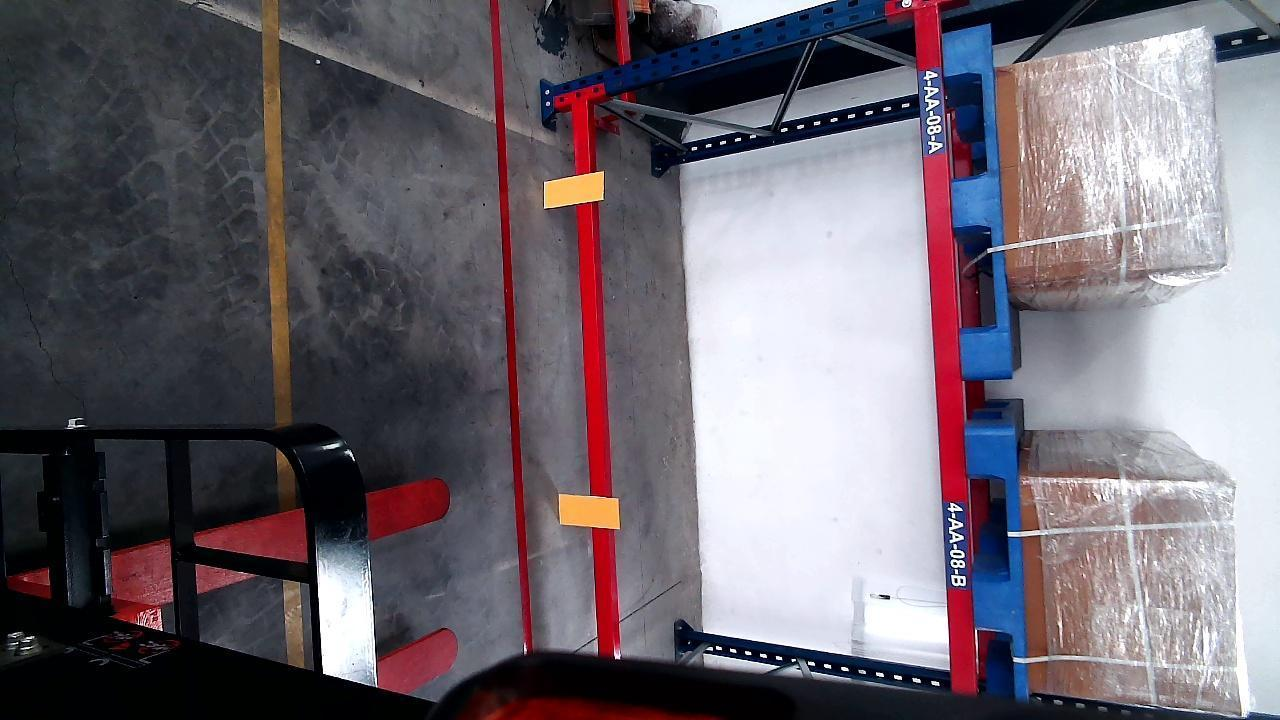h_rack: (917, 3, 976, 702), (574, 86, 617, 665)
orange_strip: (543, 171, 603, 208), (558, 493, 618, 528)
red_line: (484, 0, 537, 654)
small_pallet: (940, 25, 1019, 382), (970, 430, 1027, 689)
yellow_line: (263, 0, 292, 415)
